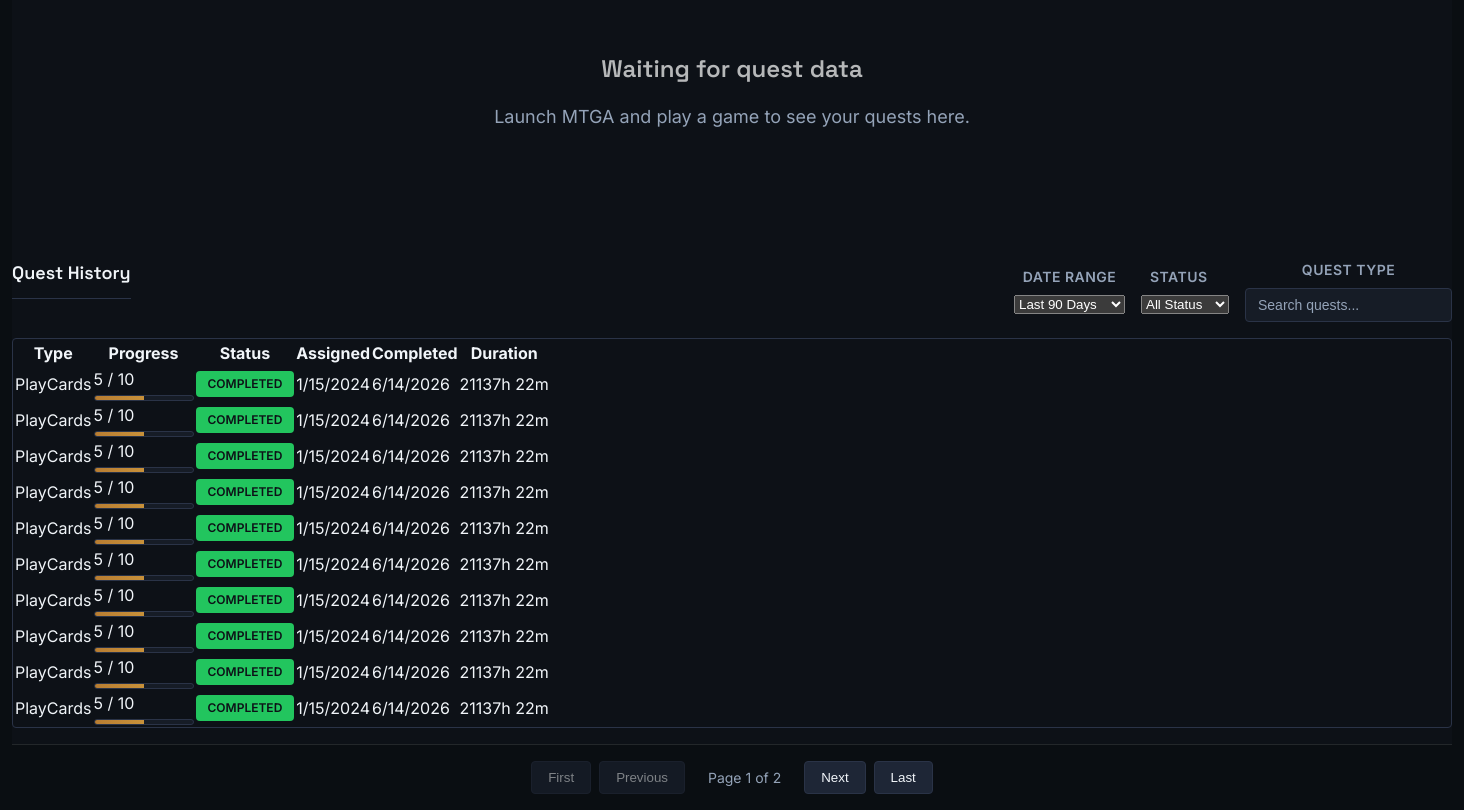
Test: Quests › Pagination › should disable Next and Last buttons on last page
The width and height of the screenshot is (1464, 810).
(page scrolled)
Expected: the text "Page 1 of 2" is shown, [708,768,781,786]
Click the button "Last" at (903, 777), box [874,760,933,794]
(page scrolled)
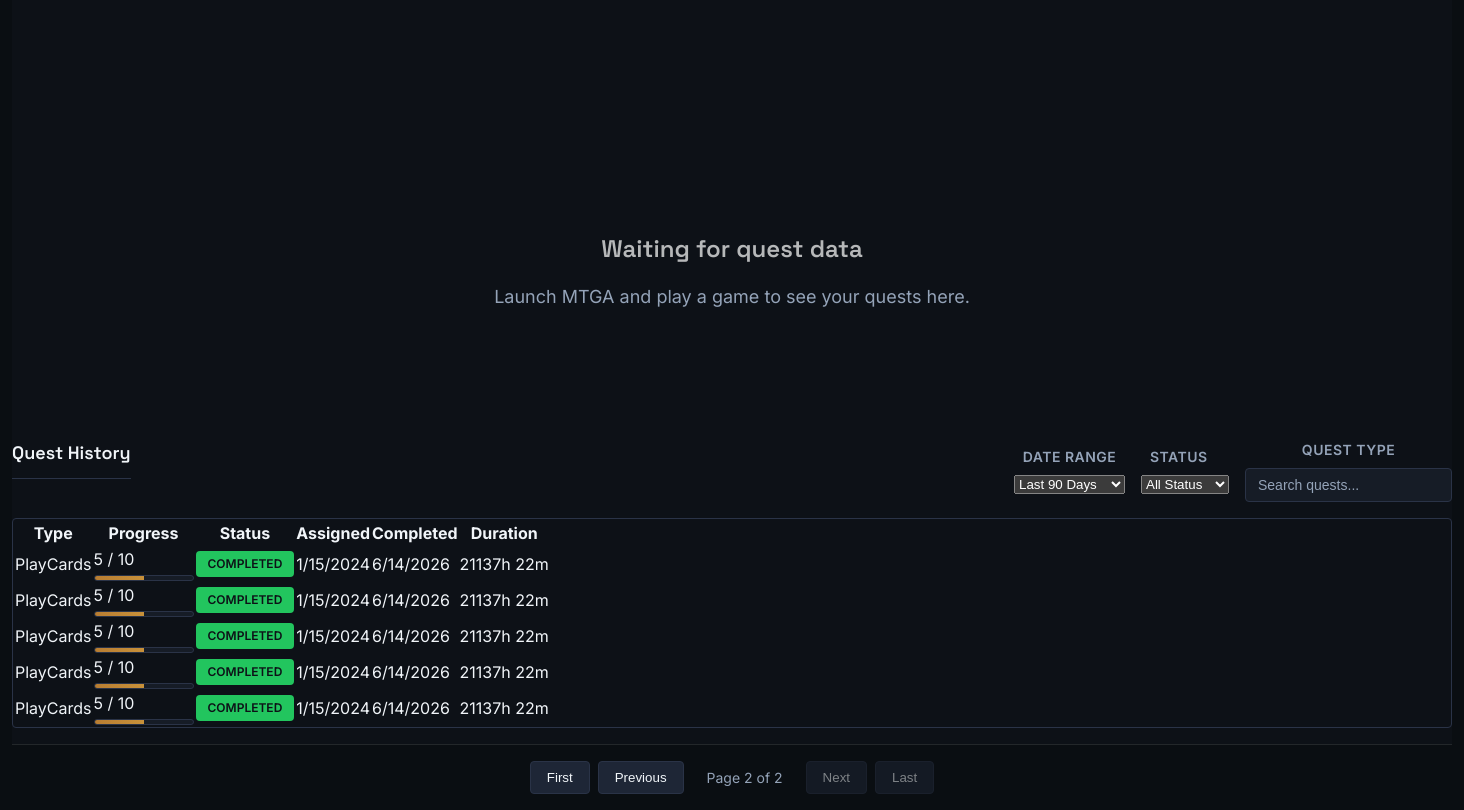
Now the button "Next" is disabled, box [806,760,867,794]
Now the button "Last" is disabled, box [875,760,934,794]
